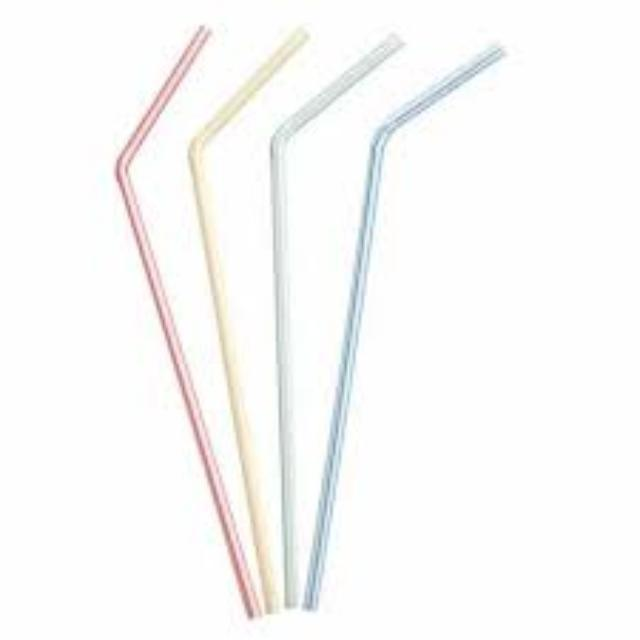Plastico descartable: (304, 46, 504, 609), (115, 26, 262, 617), (270, 35, 401, 608), (188, 29, 309, 609)
